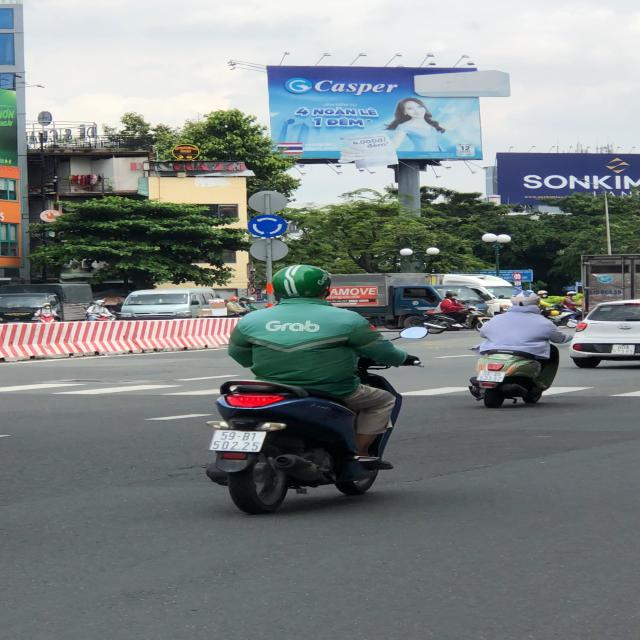Bien bao noi giao nhau chay theo vong xuyen: (246, 214, 290, 239)
